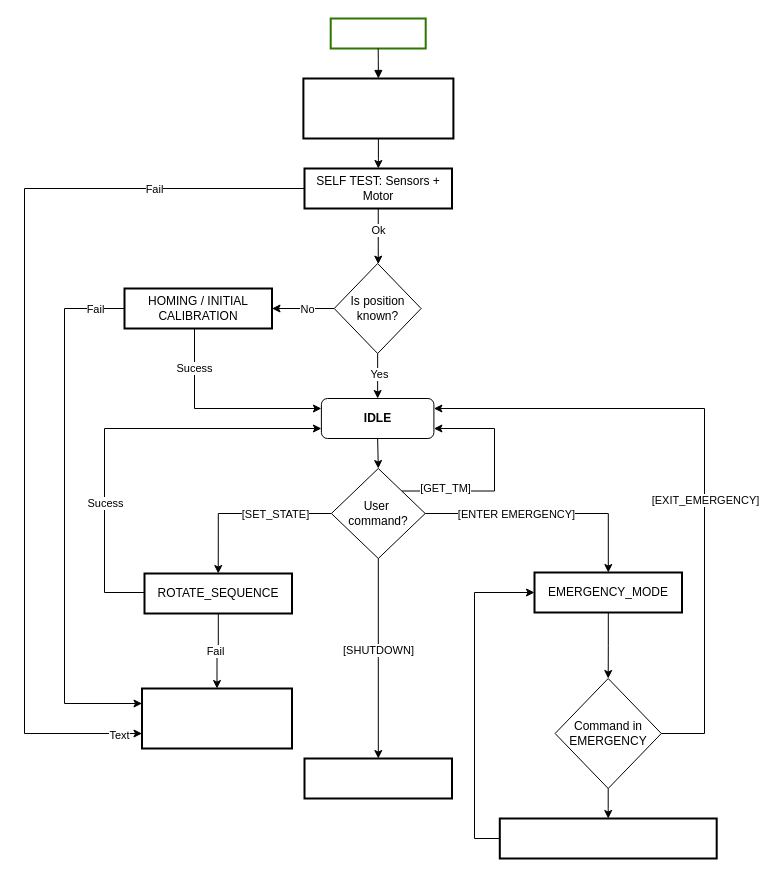
Some shapes in this 776 by 876 pixel diagram are drawn without their labels. Each missing label, with the centre of its shape:
"EMERGENCY_ROTATE_SEQUENCE" goes at [607,838].
"ERROR_STATE: Motor OFF, Shutter CLOSED" goes at [216,718].
"SAFE MODE: Shutter CLOSED, Motor OFF" goes at [378,108].
"SET_STATE = CLOSED" goes at [377,778].
